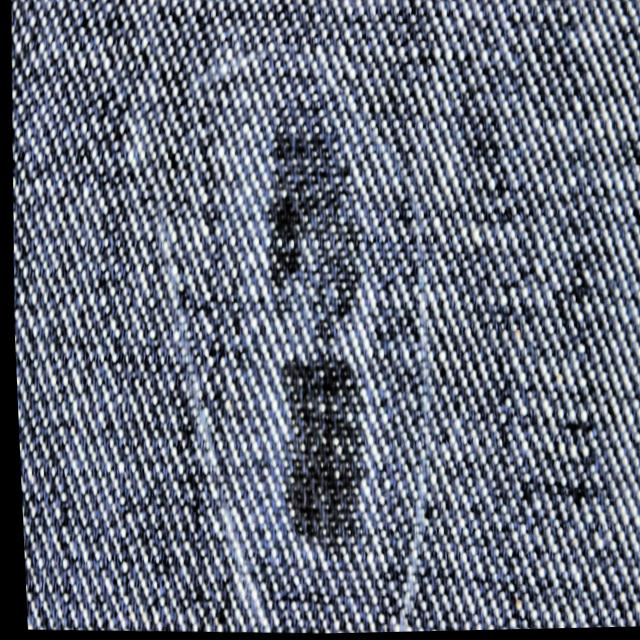Hole: (250, 128, 371, 548)
